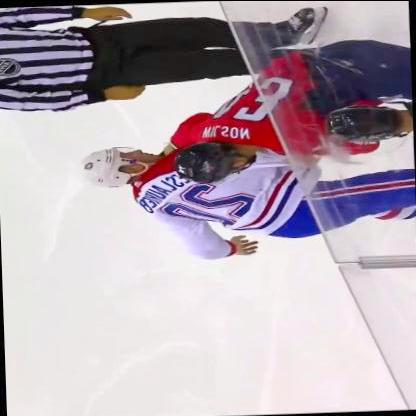voilence: (72, 37, 415, 267)
